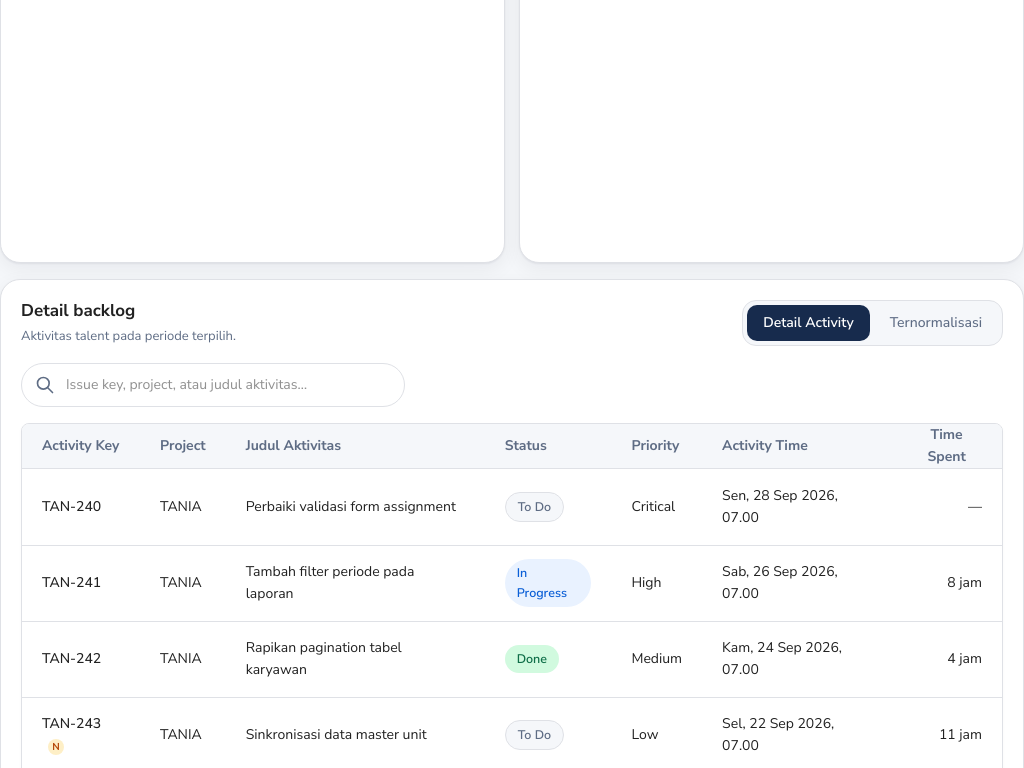
it: TalentWorkloadView — detail talent workload & tabel talent (TAN-233/234 + umpan balik) › filters backlog rows by search without changing the URL
The image size is (1024, 768).
(page scrolled)
Expected: the text "TAN-240" is shown, [22,469,140,545]
In the search field named "Cari aktivitas": (213, 385) [21,363,405,407], type "audit"
(page scrolled)
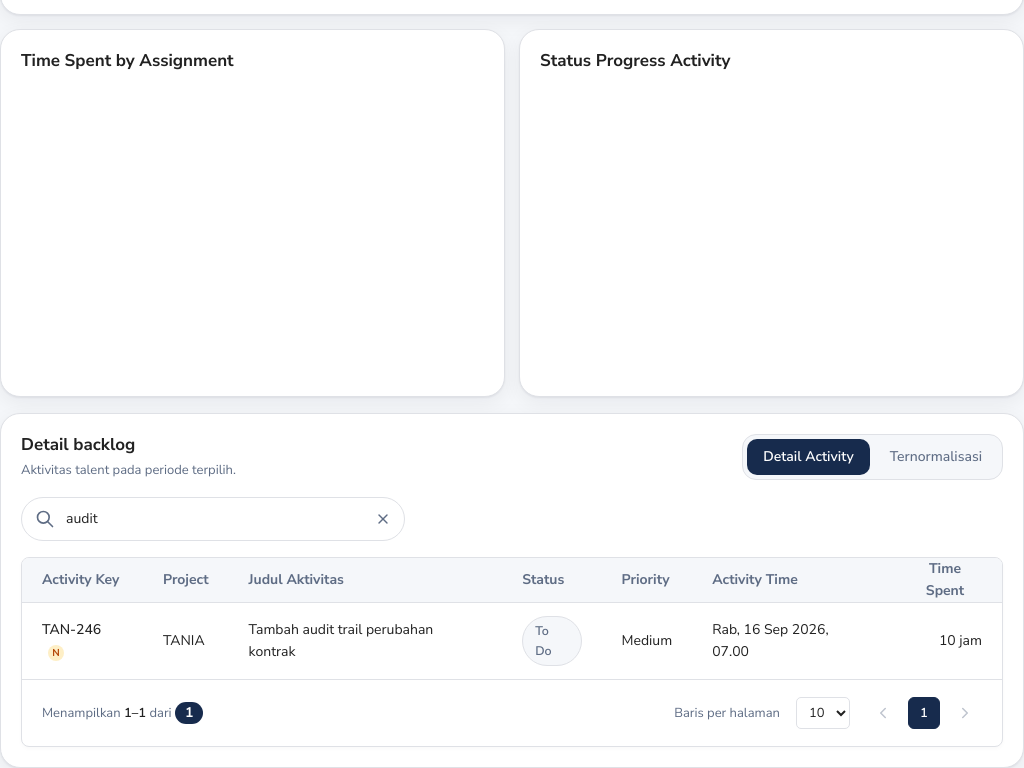
Expected: the text "Tambah audit trail perubahan kontrak" is shown, [229,603,502,679]
Expected: the text "Perbaiki validasi form assignment" is gone
